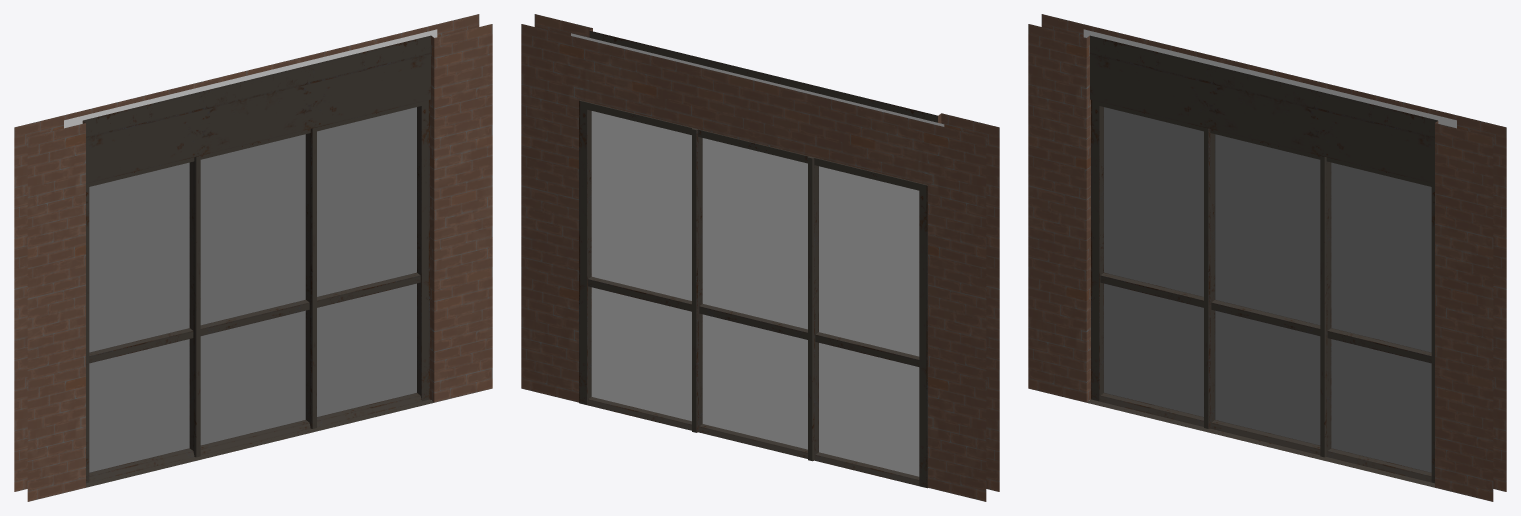
File: Metal_Window.gltf
3 renders of one model, left to right at view 1: azimuth 30°, elevation 25°; view 2: azimuth 150°, elevation 25°; view 3: azimuth 330°, elevation 25°, orthographic.
Visible parts, largest first — view 1: Metal_Window; view 2: Metal_Window; view 3: Metal_Window.
Part boxes in pixels (left/top/right/bottom): Metal_Window: left=14, top=14, right=492, bottom=501; Metal_Window: left=521, top=14, right=999, bottom=501; Metal_Window: left=1028, top=14, right=1506, bottom=501.
Bounding box in the file's own units: 4 × 3 × 0.2239.
Materials: 5 (3 with a texture image).
